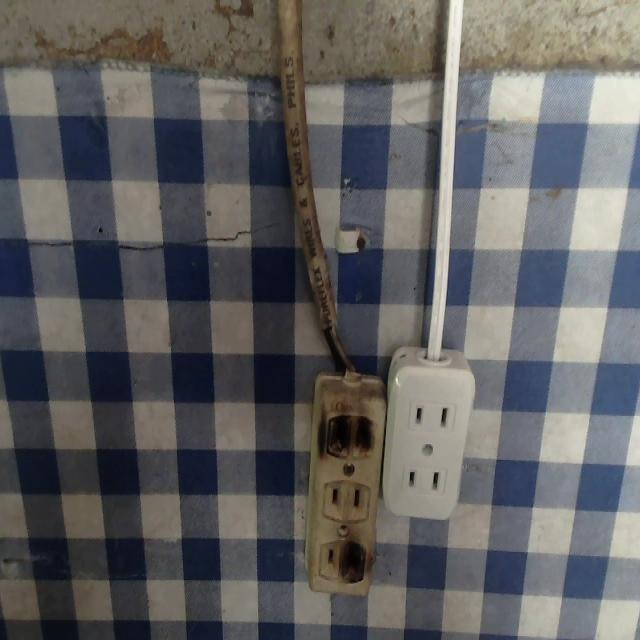-: (324, 412, 378, 459), (337, 539, 367, 589)
